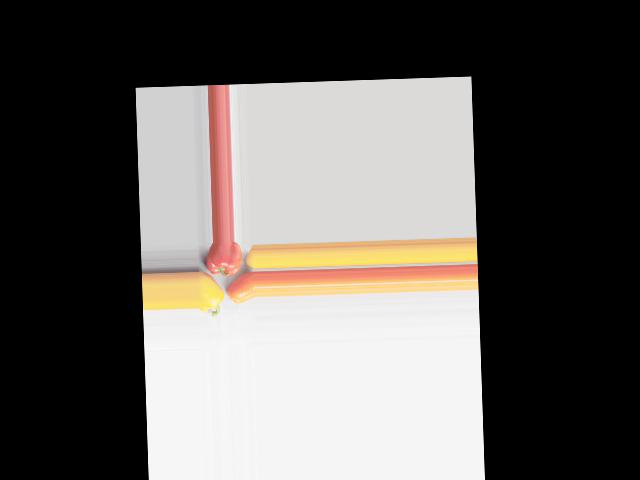bell_pepper: (203, 242, 243, 277)
